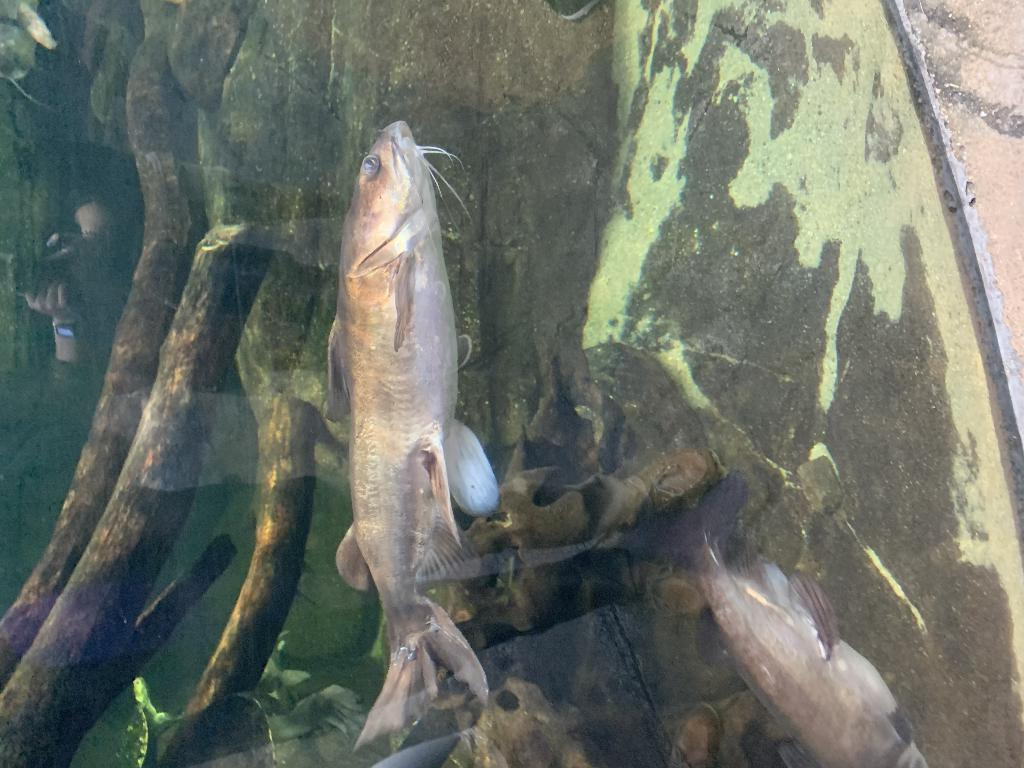fish: (324, 118, 498, 752), (656, 469, 930, 767)
